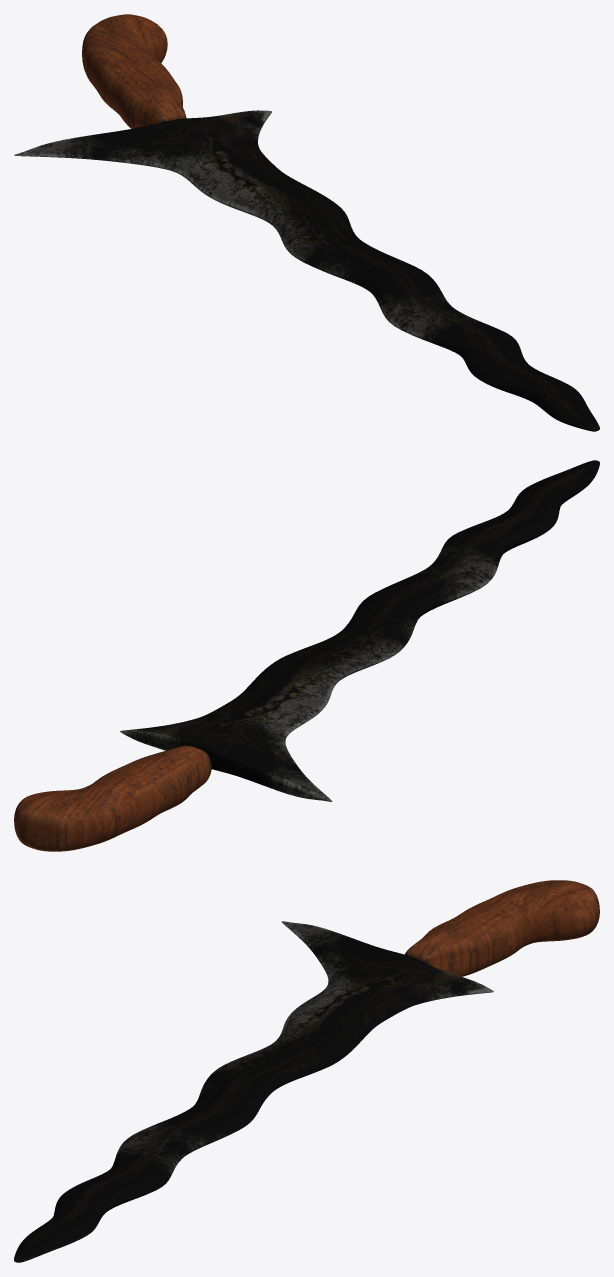
Rendered from kris.obj.
3 renders of one model, top to bottom at view 1: azimuth 30°, elevation 25°; view 2: azimuth 150°, elevation 25°; view 3: azimuth 330°, elevation 25°, orthographic. The views are drawn at different scales.
Visible parts, largest first — view 1: __Plane.001, __Cube.001; view 2: __Plane.001, __Cube.001; view 3: __Plane.001, __Cube.001.
Part boxes in pixels (x1,y1,x2,y2): __Plane.001: (14, 110, 599, 431); __Cube.001: (82, 14, 186, 128); __Plane.001: (120, 460, 599, 801); __Cube.001: (14, 745, 211, 851); __Plane.001: (14, 921, 493, 1262); __Cube.001: (405, 880, 599, 976).
Bounding box in the file's own units: 2.84 × 0.5595 × 11.01.
2 materials, 2 textured.
